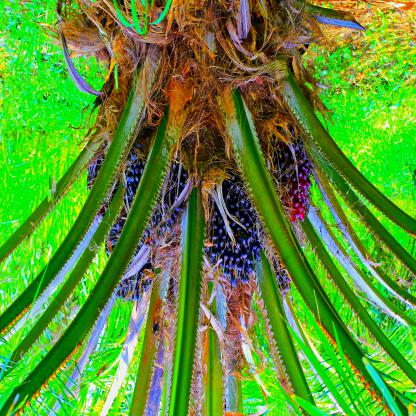1: (266, 119, 312, 221)
palm-oil: (123, 137, 187, 249), (200, 180, 266, 288), (102, 235, 155, 302), (79, 147, 122, 228), (272, 258, 293, 302)
